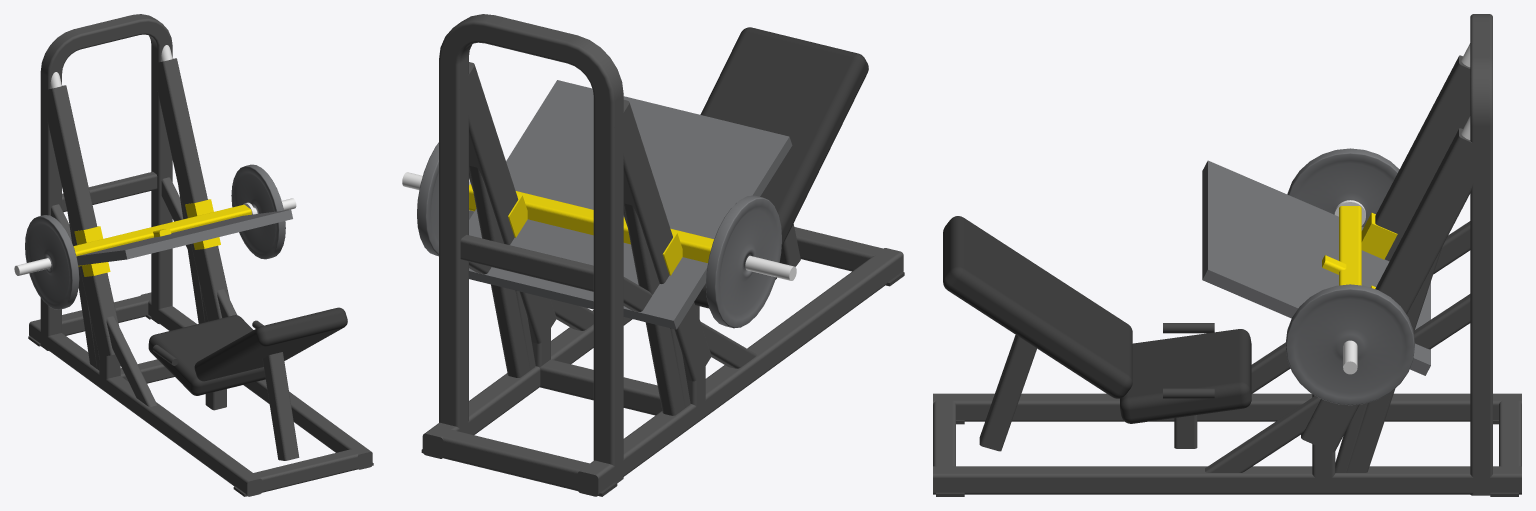
3 renders of one model, left to right at view 1: azimuth 30°, elevation 25°; view 2: azimuth 150°, elevation 25°; view 3: azimuth 270°, elevation 25°, orthographic. The views are drawn at different scales.
Parts seen in each view (by area): view 1: base, rail_beam (×2), rear_arch_tube, carriage, frame, backrest_pad, seat_pad, foot_plate, backrest, carriage_beam, rear_tie, carriage_slider (×2) (+1 smaller); view 2: foot_plate, rear_arch_tube, base, backrest_pad, frame, rail_beam (×2), carriage, rear_tie, carriage_beam, plate_horn, backrest; view 3: base, carriage, foot_plate, backrest_pad, rail_beam (×2), frame, rear_arch_tube, seat_pad, backrest, carriage_beam, carriage_slider, seat.
Part boxes in pixels (x1,y1,x2,y2): base: (28,292,373,496); rail_beam (×2): (41,58,229,356); rear_arch_tube: (40,14,172,350); carriage: (25,164,285,309); frame: (51,177,236,406); backrest_pad: (194,307,347,381); seat_pad: (148,315,265,395); foot_plate: (76,209,292,265); backrest: (262,352,299,460); carriage_beam: (73,204,251,266); rear_tie: (62,171,157,212); carriage_slider (×2): (74,199,220,276); foot_plate: (469,80,792,329); rear_arch_tube: (439,14,623,482); base: (421,227,904,496); backrest_pad: (700,27,868,246); frame: (469,166,756,415); rail_beam (×2): (459,62,711,381); carriage: (417,142,781,328); rear_tie: (460,235,593,291); carriage_beam: (469,184,713,262); plate_horn: (745,255,796,280); backrest: (779,224,800,266); base: (933,393,1521,496); carriage: (1285,148,1414,405); foot_plate: (1202,160,1430,375); backrest_pad: (943,216,1132,398); rail_beam (×2): (1301,55,1490,452); frame: (1205,221,1470,485); rear_arch_tube: (1470,14,1492,495); seat_pad: (1120,329,1251,423); backrest: (979,335,1036,451); carriage_beam: (1339,206,1361,285); carriage_slider: (1361,212,1397,259); seat: (1174,415,1197,448).
Size of the model in its own units: 1.5 by 1.6 by 2.05.
